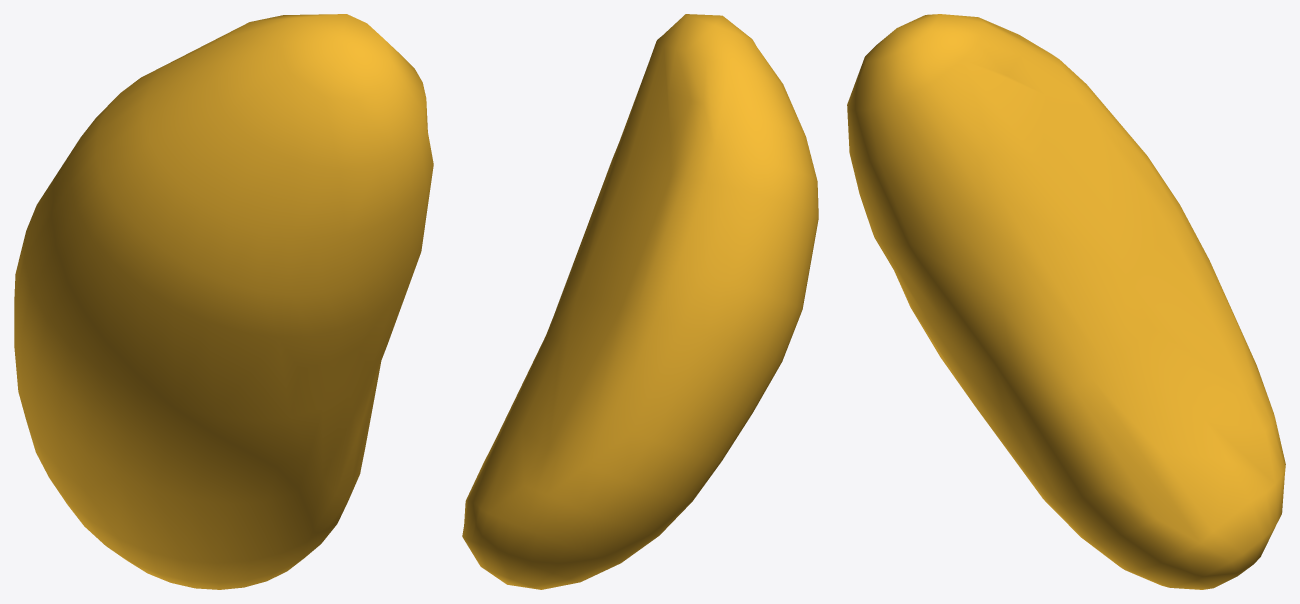
File: nervoso-olive-r.glb
The picture shows the model from 3 angles, left to right: view 1: azimuth 30°, elevation 25°; view 2: azimuth 150°, elevation 25°; view 3: azimuth 270°, elevation 25°; orthographic projection. The views are drawn at different scales.
Parts seen in each view (by area): view 1: Olive.r; view 2: Olive.r; view 3: Olive.r.
Boxes of the visible parts, <box> form: Olive.r: <box>14,14,433,589</box>; Olive.r: <box>462,14,818,589</box>; Olive.r: <box>847,14,1285,589</box>.
Bounding box in the file's own units: 0.00773 × 0.0138 × 0.0103.
